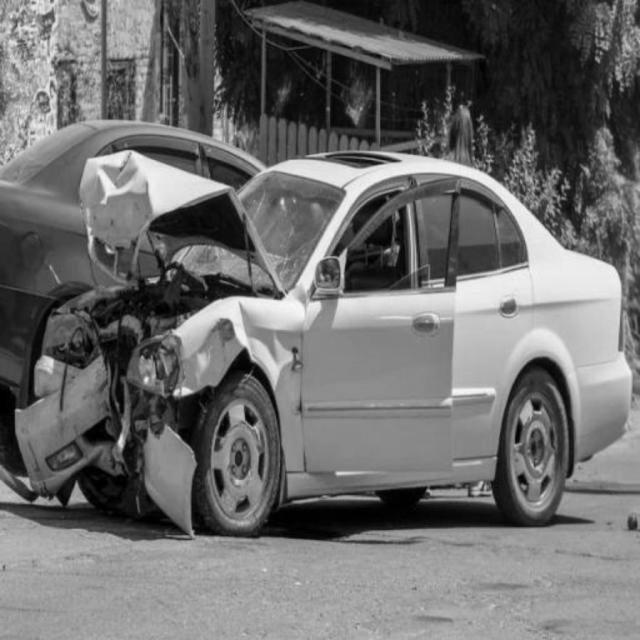accident: (9, 118, 629, 521)
